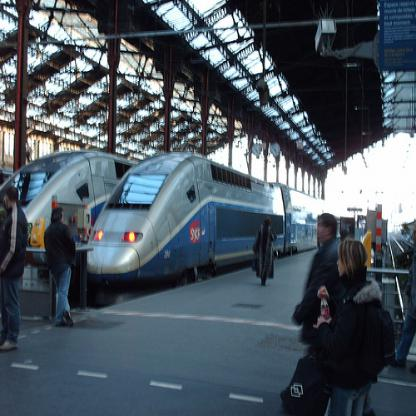person: (314, 238, 383, 416), (293, 214, 341, 358), (1, 186, 30, 352), (44, 208, 76, 330), (392, 228, 416, 375), (255, 221, 277, 285)
train: (87, 153, 370, 292), (1, 150, 144, 267)
